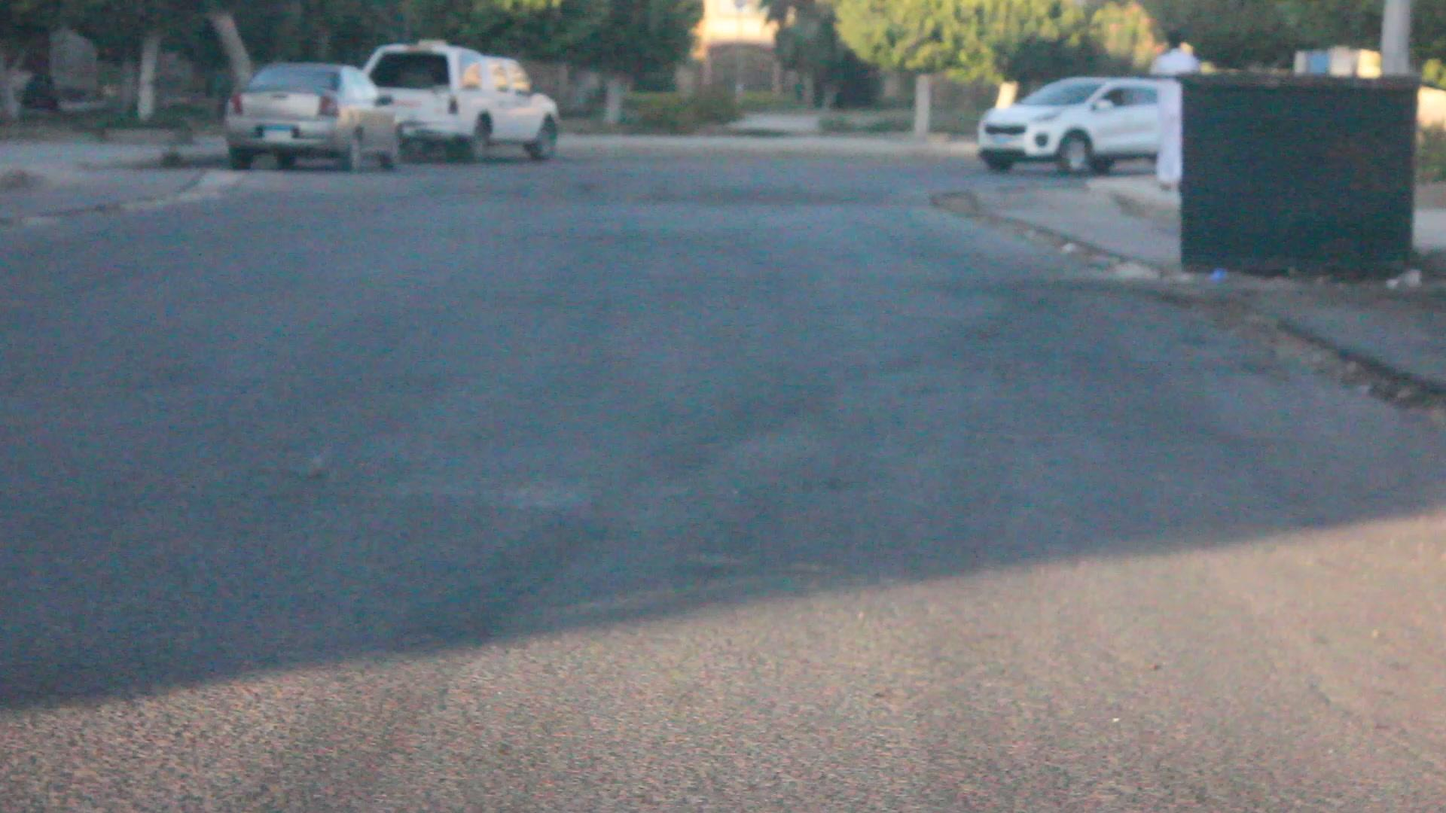Bump: (188, 158, 936, 201)
